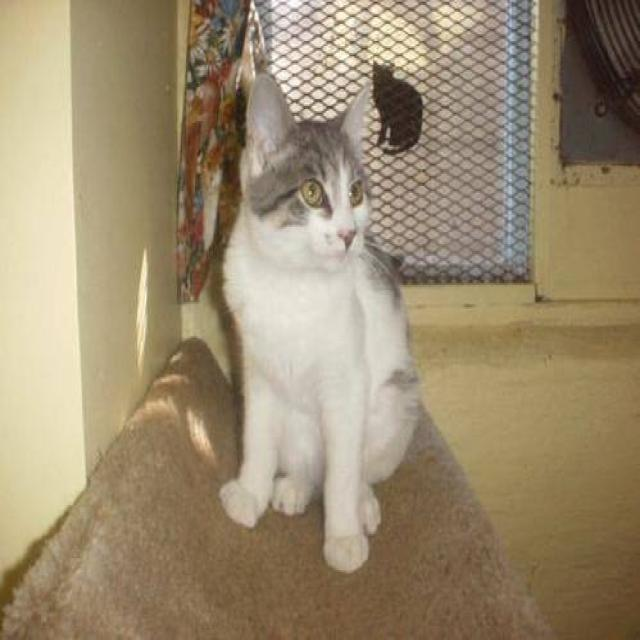Cat: (229, 68, 399, 305)
